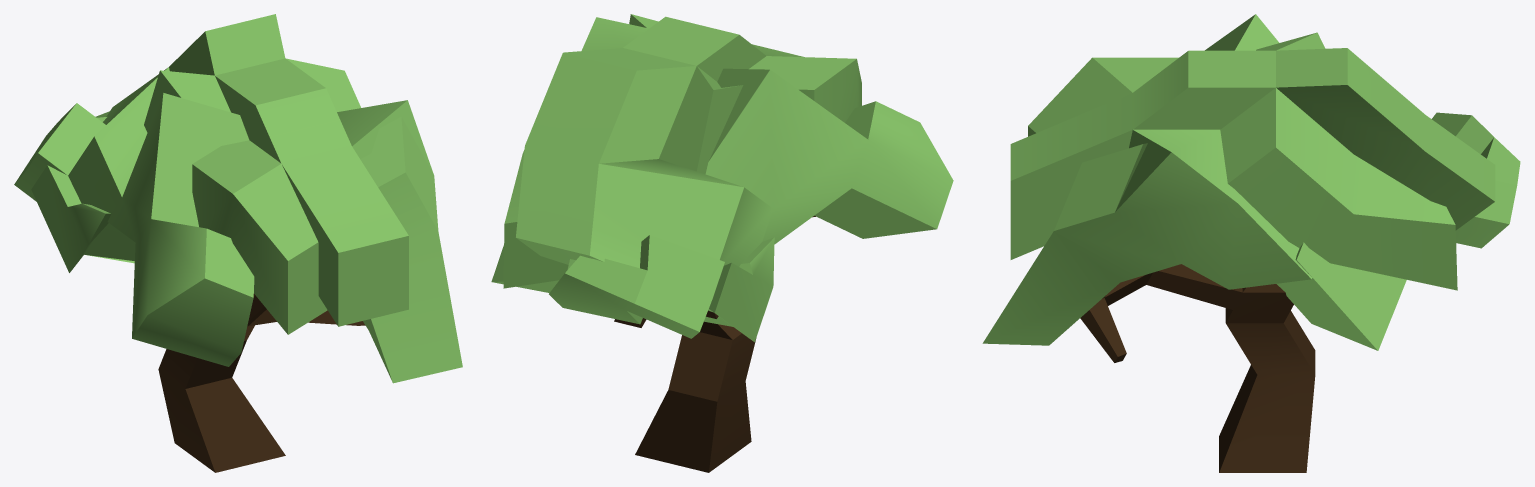
Rendered from Tree2.fbx.
3 views of the same model, side by side, from view 1: azimuth 30°, elevation 25°; view 2: azimuth 150°, elevation 25°; view 3: azimuth 270°, elevation 25° (orthographic). The views are drawn at different scales.
Visible parts, largest first — view 1: Leaves1, Tree2; view 2: Leaves1, Tree2; view 3: Leaves1, Tree2.
Boxes of the visible parts, <box> form: Leaves1: <box>14,14,462,383</box>; Tree2: <box>158,294,365,472</box>; Leaves1: <box>491,14,953,342</box>; Tree2: <box>614,215,815,472</box>; Leaves1: <box>982,14,1520,350</box>; Tree2: <box>1080,264,1315,472</box>.
Size of the model in its own units: 801 by 965 by 1136.
